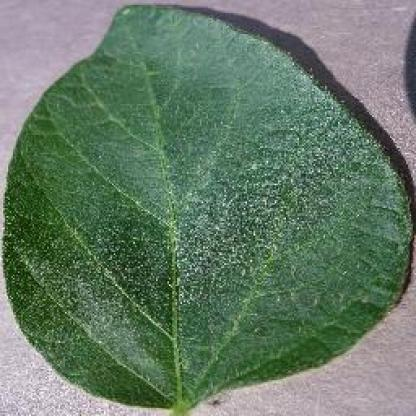soy: (5, 1, 415, 413)
